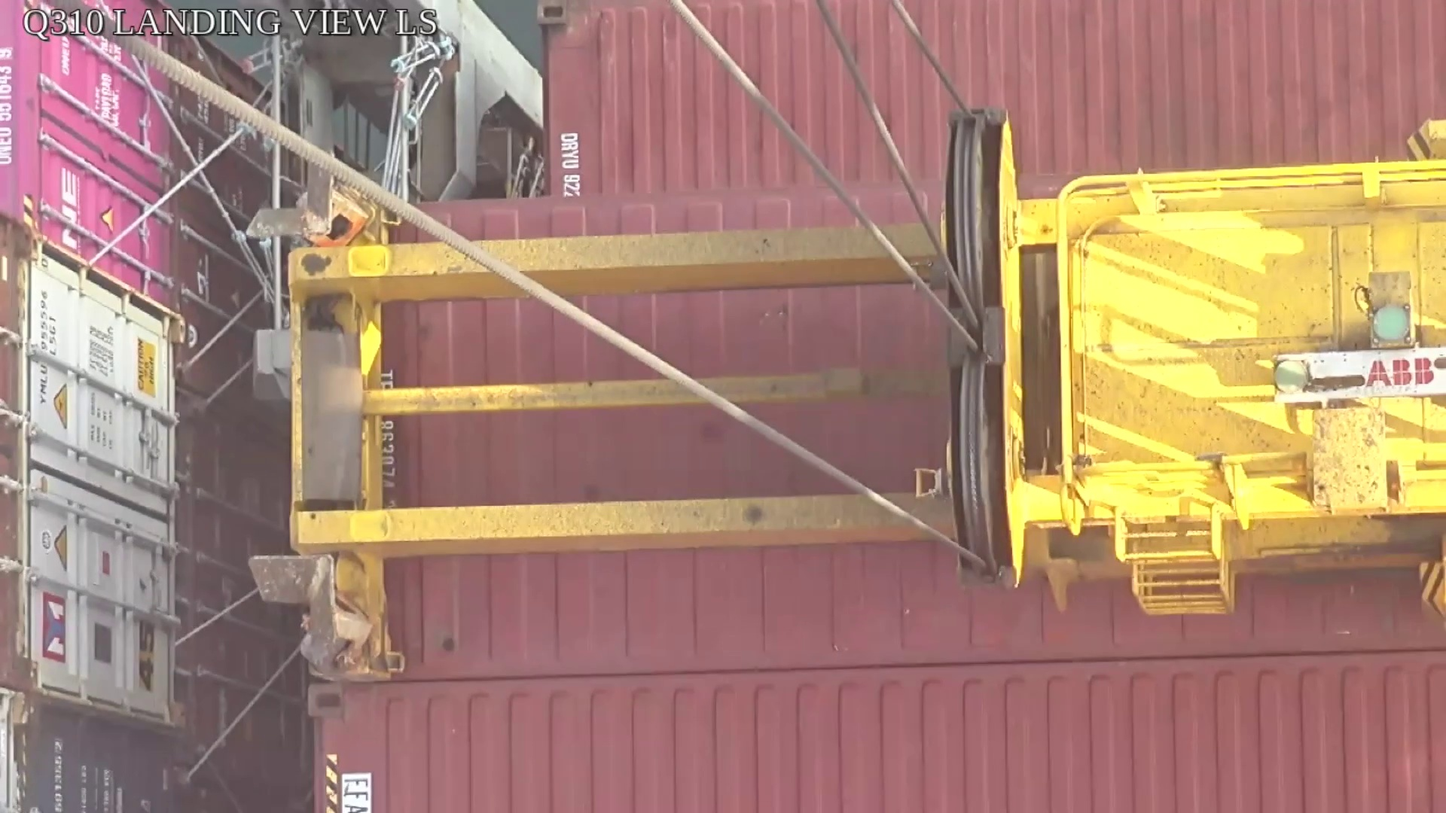aa: (941, 108, 1029, 590)
